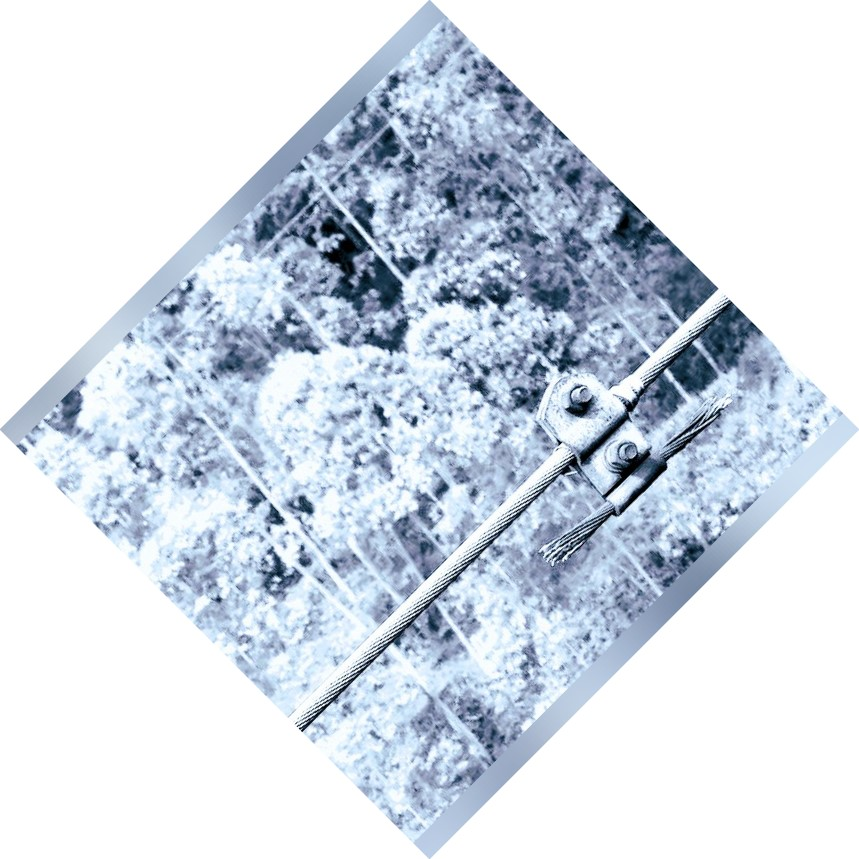Damage of shockproof hammer: (504, 357, 743, 570)
